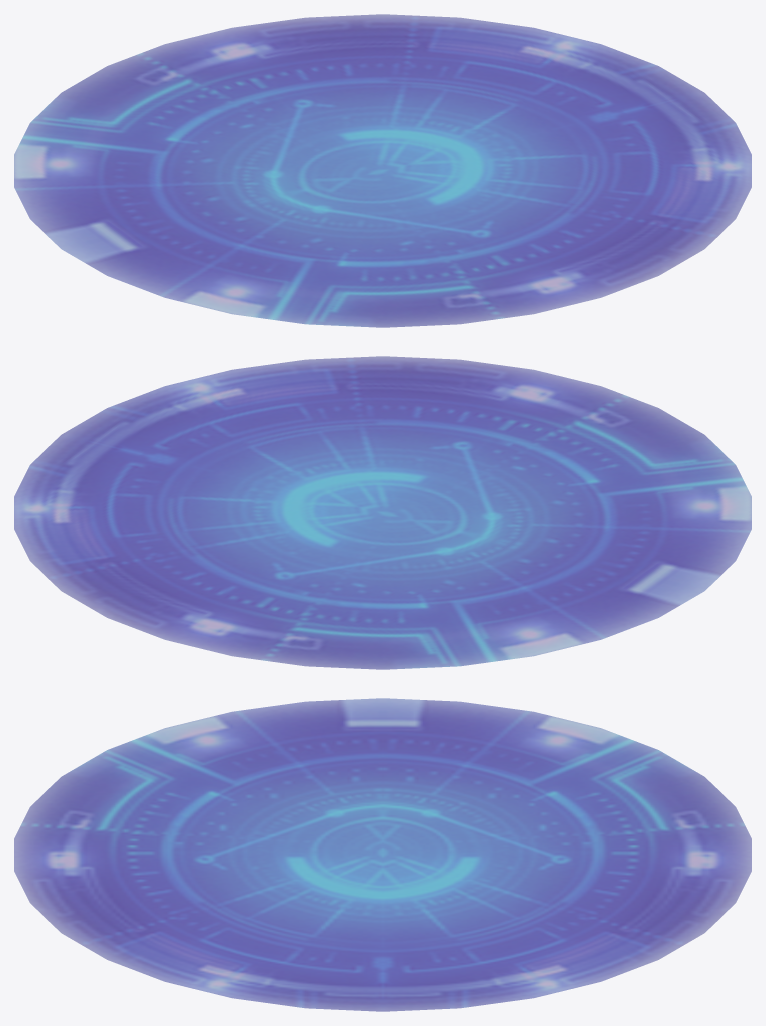
File: shiguangzhaohuanji_dimian.FBX
The picture shows the model from 3 angles, top to bottom: view 1: azimuth 30°, elevation 25°; view 2: azimuth 150°, elevation 25°; view 3: azimuth 270°, elevation 25°; orthographic projection.
Visible parts, largest first — view 1: shiguangzhaohuanji_yuan01; view 2: shiguangzhaohuanji_yuan01; view 3: shiguangzhaohuanji_yuan01.
Boxes of the visible parts, x1=… form: shiguangzhaohuanji_yuan01: x1=14, y1=14, x2=751, y2=327; shiguangzhaohuanji_yuan01: x1=14, y1=356, x2=751, y2=669; shiguangzhaohuanji_yuan01: x1=14, y1=698, x2=751, y2=1011.
Size of what is drawn, in the model's own units: 210 by 4.58e-05 by 209.
